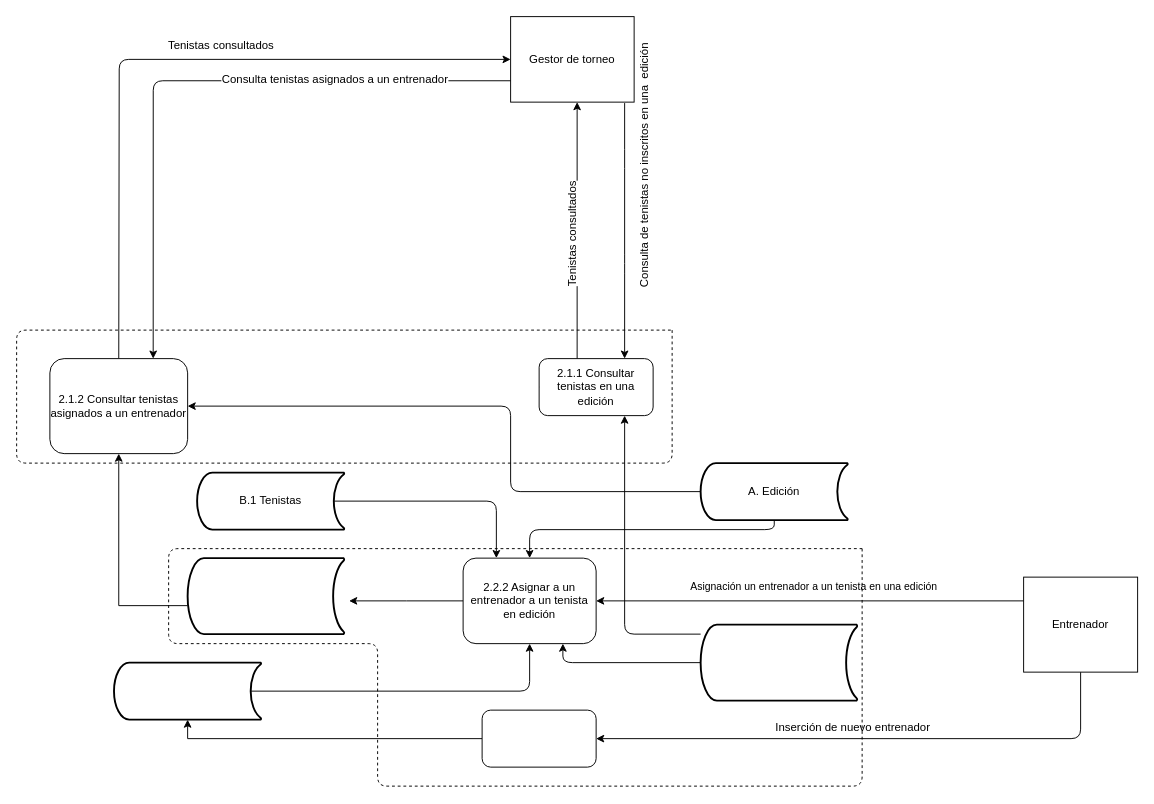
Some shapes in this 1154 by 804 pixel diagram are drawn without their labels. The centre of each missing label's shape, as x and y in pixels:
"2.2.1 Insertar nuevo entrenador" goes at point 538,738.
"B.2 Tenistas asignados a entrenador en edición" goes at point 265,596.
"B.3 Tenistas en edición" goes at point 778,662.
"D. Entrenadores" goes at point 187,690.
